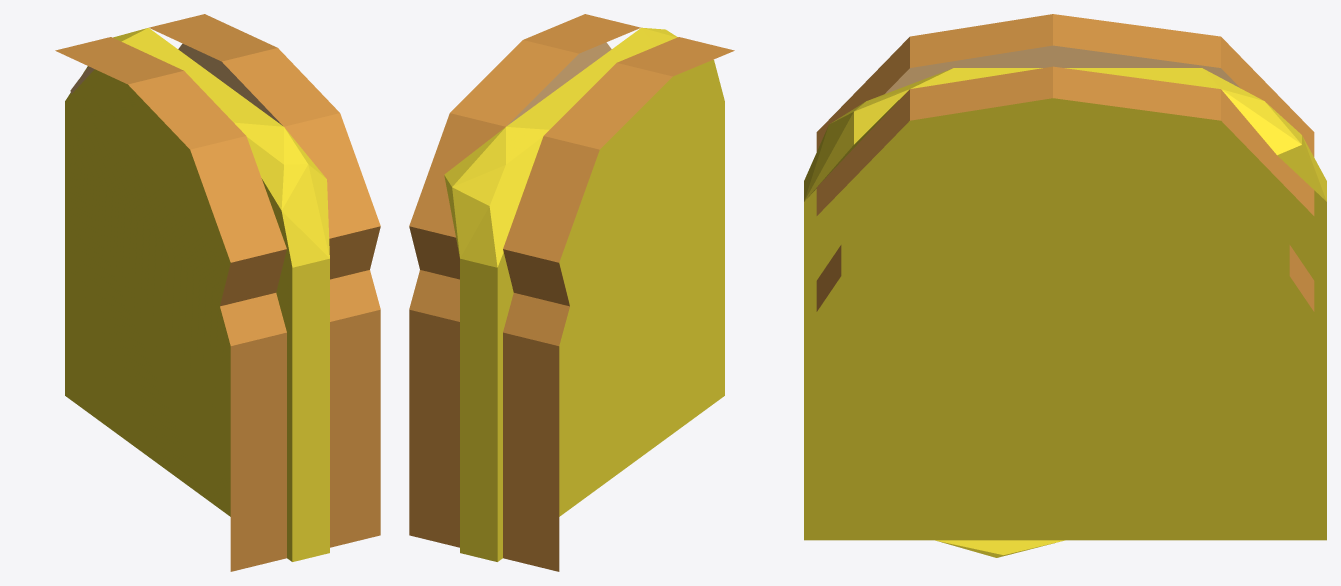
Rendered from Grilled cheese (1).glb.
3 renders of one model, left to right at view 1: azimuth 30°, elevation 25°; view 2: azimuth 150°, elevation 25°; view 3: azimuth 270°, elevation 25°, orthographic. The views are drawn at different scales.
Parts seen in each view (by area): view 1: Node; view 2: Node; view 3: Node.
Boxes of the visible parts, left/top/right/bottom form: Node: left=55, top=14, right=380, bottom=571; Node: left=409, top=14, right=734, bottom=571; Node: left=804, top=14, right=1326, bottom=557.
Bounding box in the file's own units: 0.08 × 0.2152 × 0.21.
